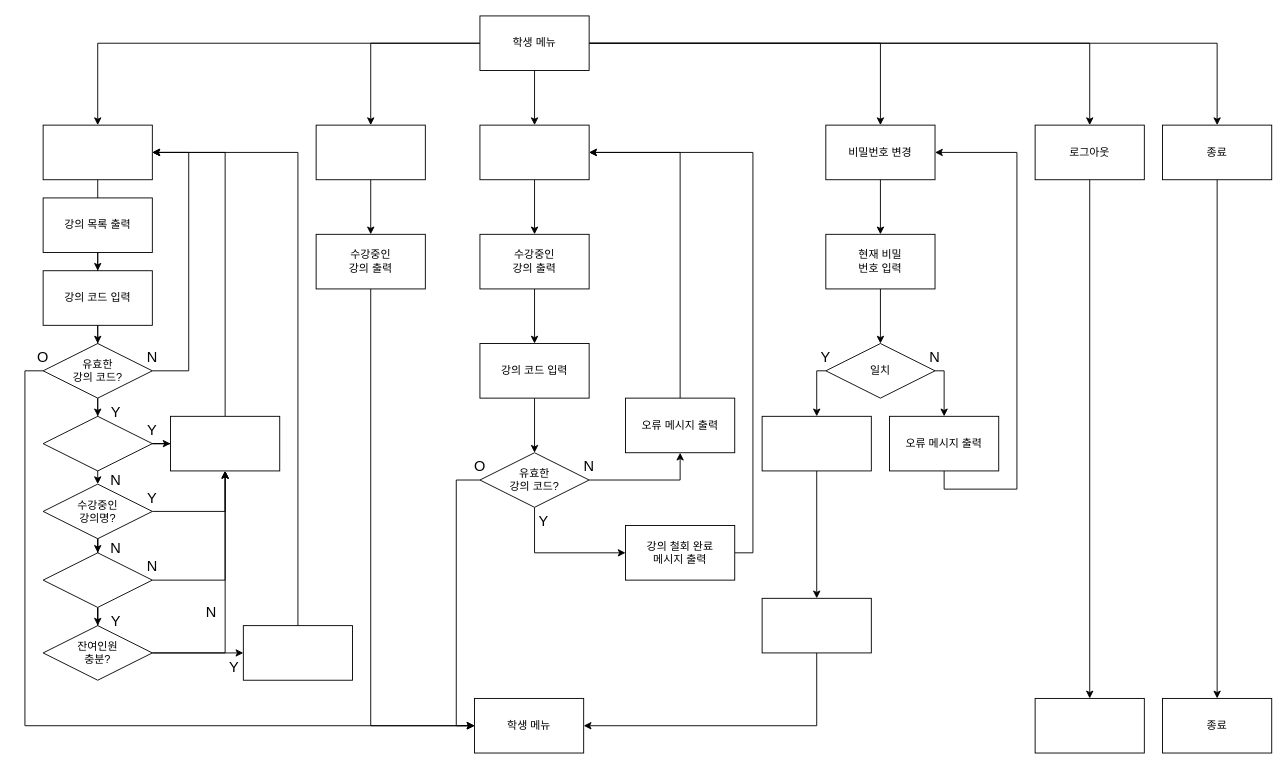
Some shapes in this 1288 by 769 pixel diagram are drawn without their labels. The box of each missing label's shape, as (x1, y1, x2, y2) in pixels:
로그인 메뉴: (1034, 698, 1144, 753)
비밀번호 변경 완료 메시지 출력: (761, 597, 871, 653)
새로 설정할 비밀번호 입력: (761, 415, 871, 471)
수강 신청: (42, 124, 152, 180)
수강 철회: (479, 124, 589, 180)
수강 현황: (315, 124, 425, 180)
수강신청 완료 메시지 출력: (242, 625, 353, 680)
수강중인 강의코드?: (42, 415, 152, 471)
수강학점 충분?: (42, 552, 152, 607)
실패 이유 출력: (170, 415, 280, 471)
